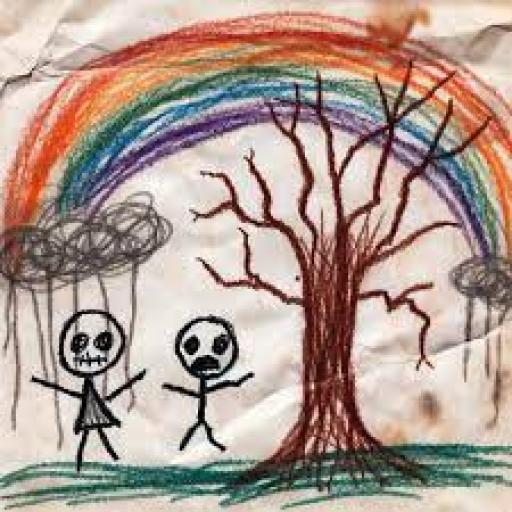person: (24, 304, 153, 486), (159, 309, 262, 465)
